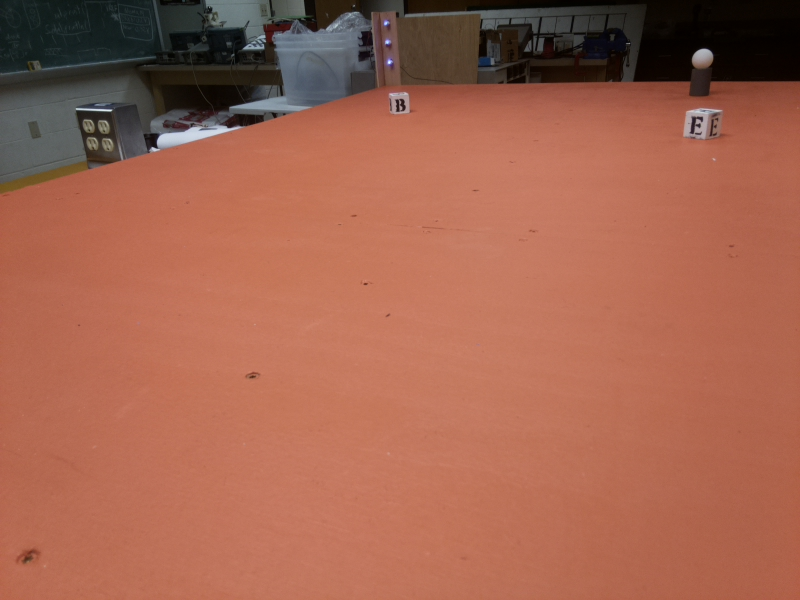blockB: (388, 91, 411, 116)
blockE: (683, 107, 722, 145)
corner: (368, 12, 407, 85)
obstacle: (688, 47, 717, 94)
